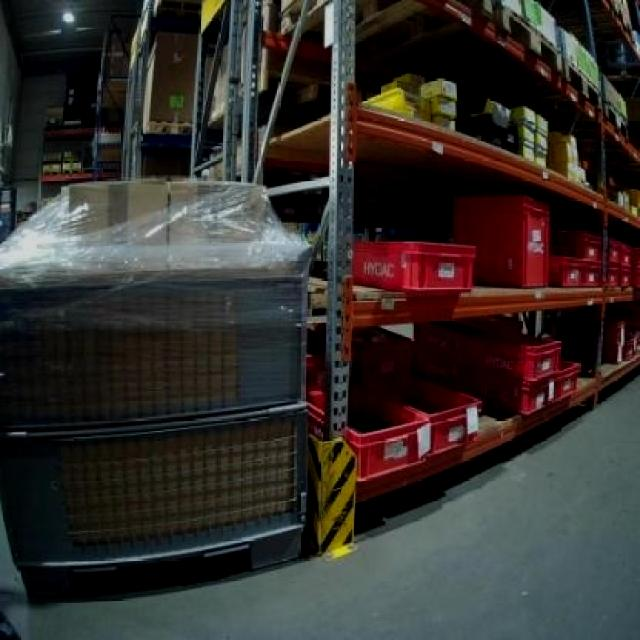pallets: (0, 178, 306, 592), (452, 194, 548, 285), (352, 240, 472, 288)
